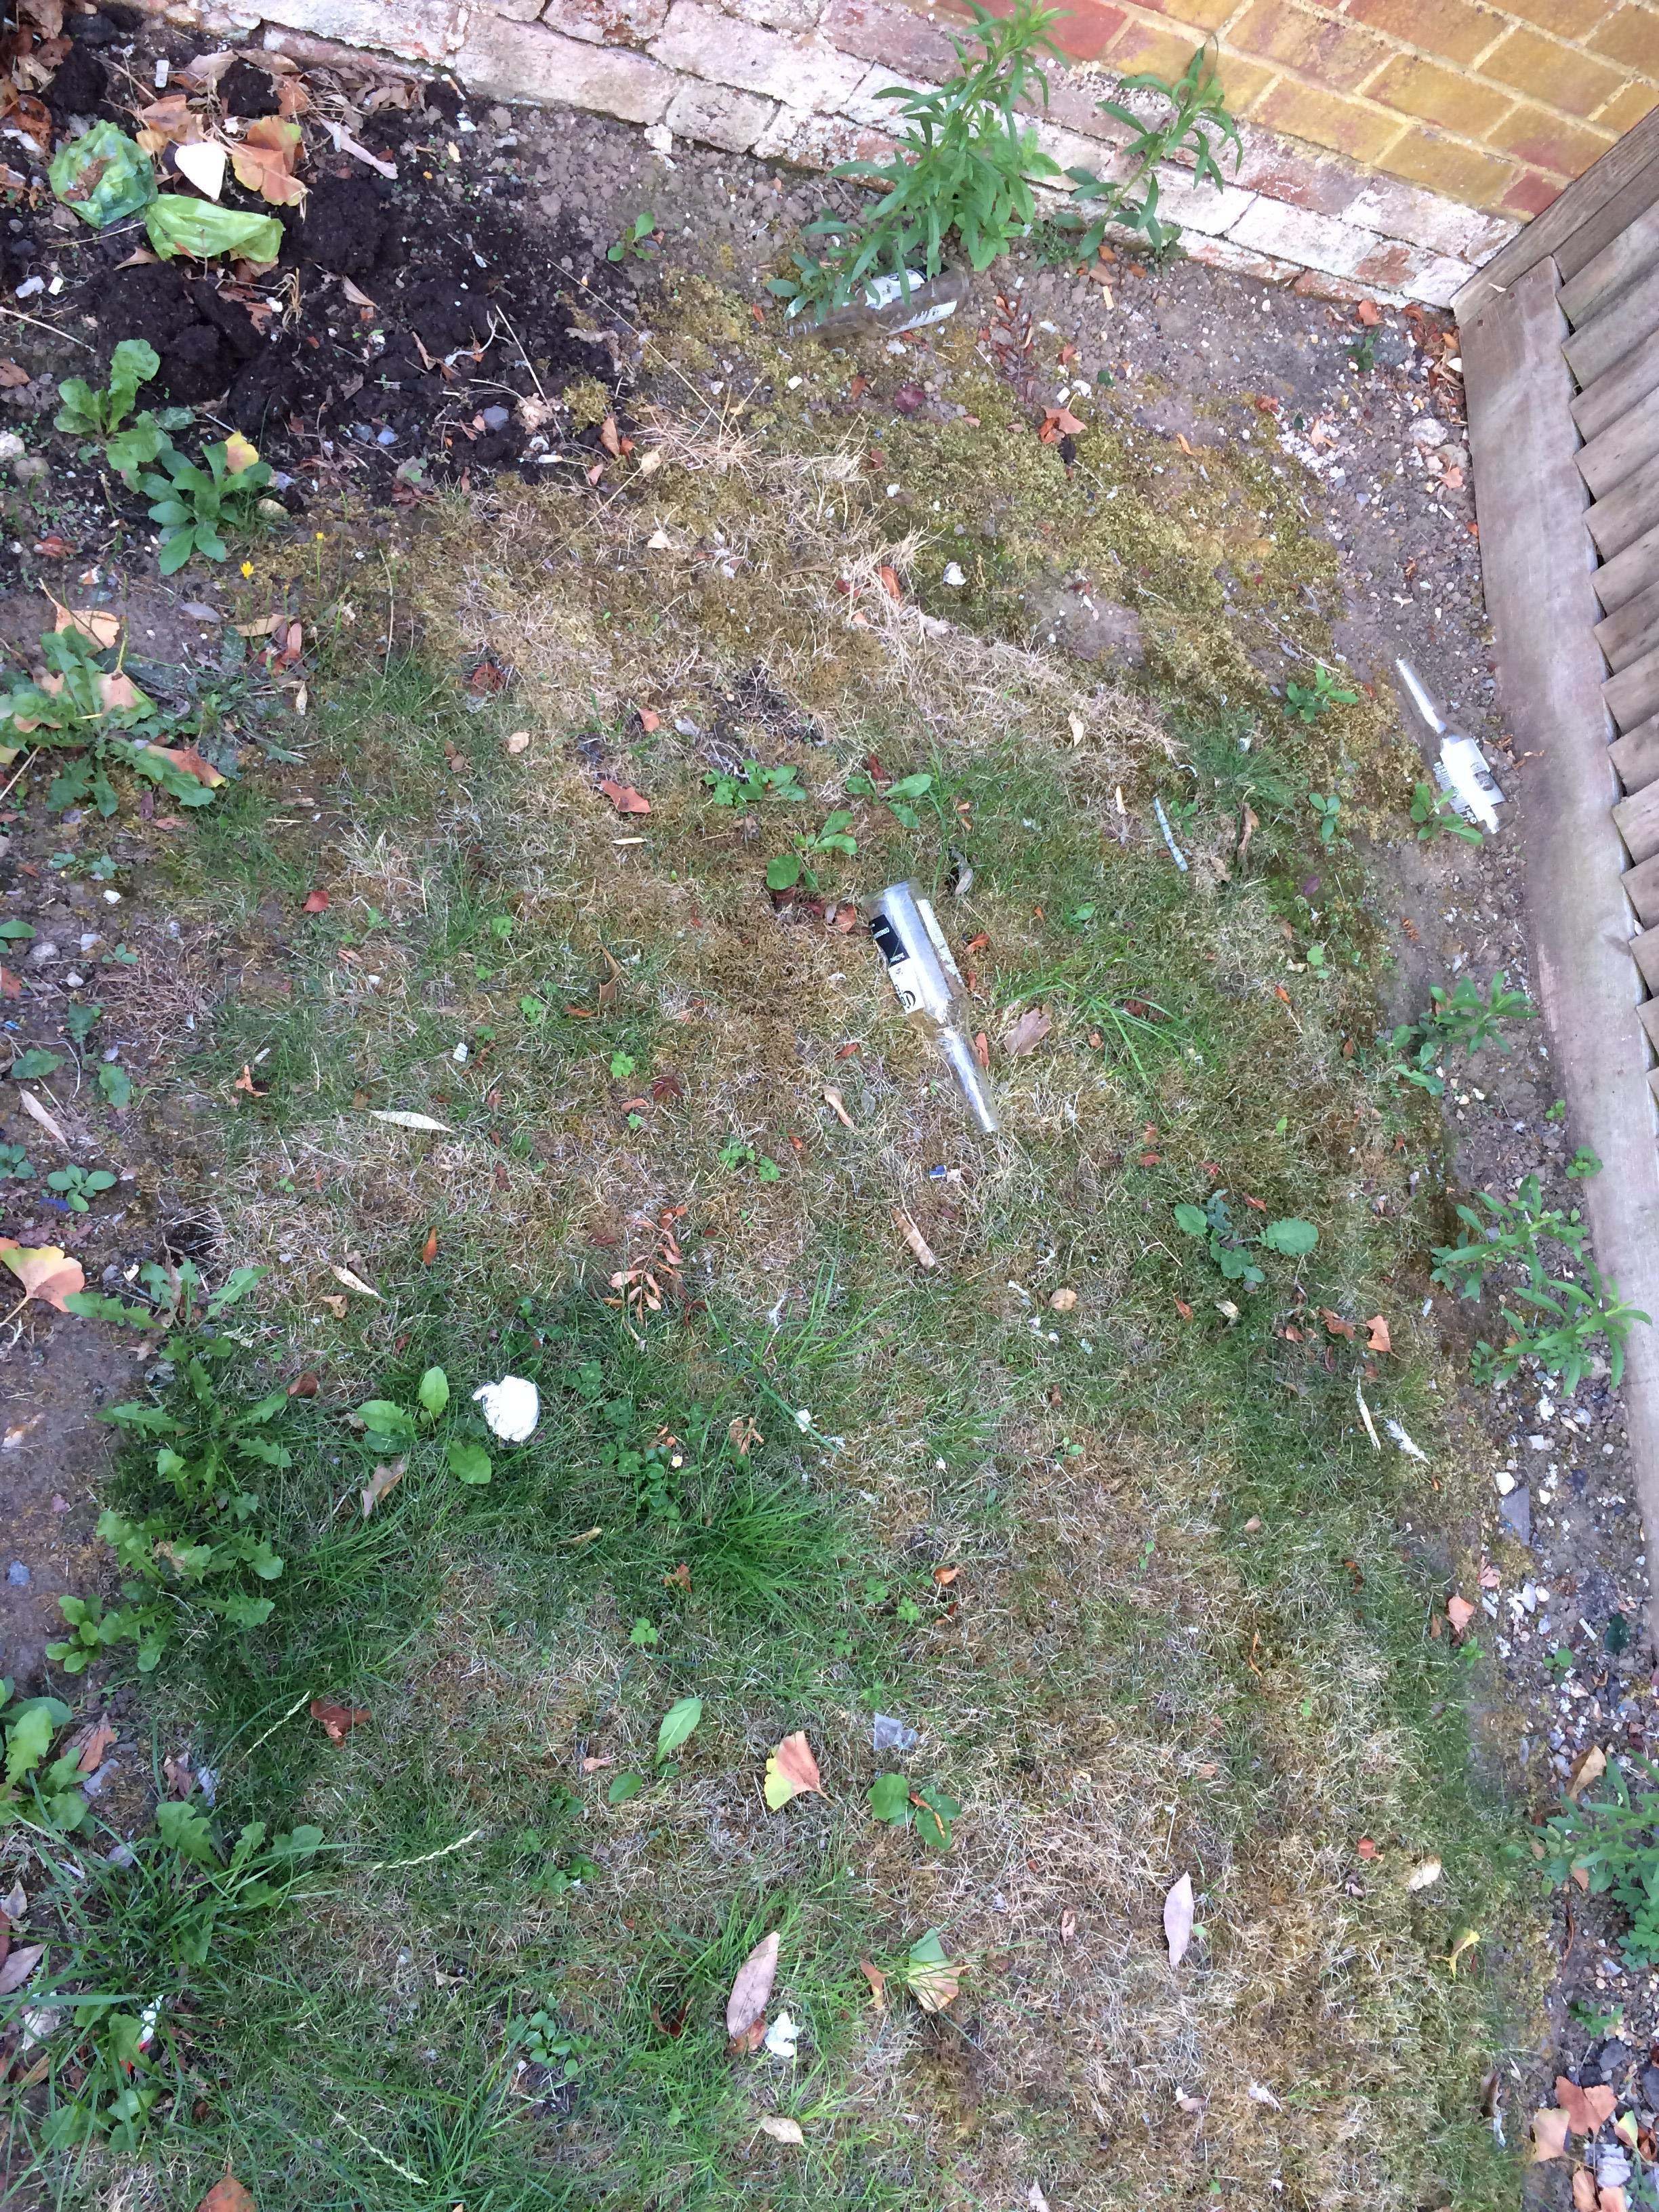Trash: (842, 885, 1012, 1158), (1366, 644, 1518, 857)
